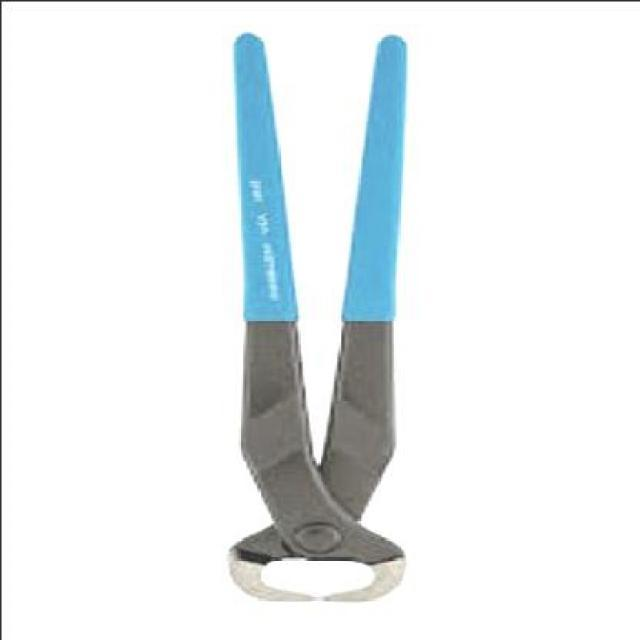pliers: (168, 7, 452, 613)
